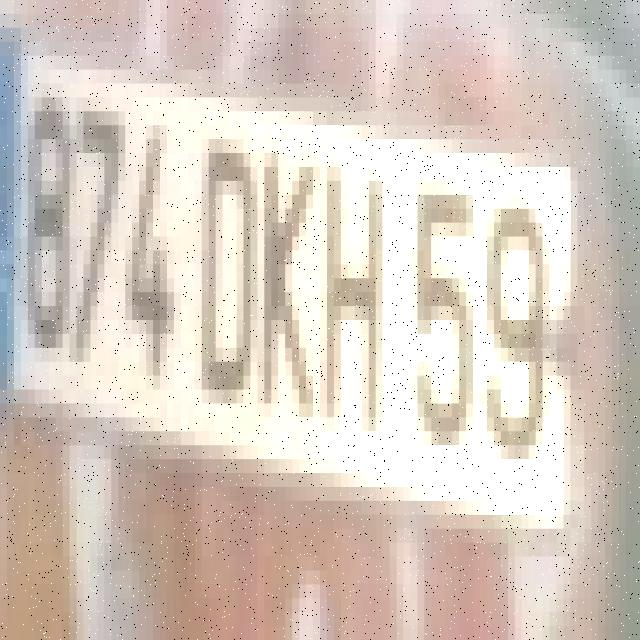licenseplate: (0, 17, 576, 558)
